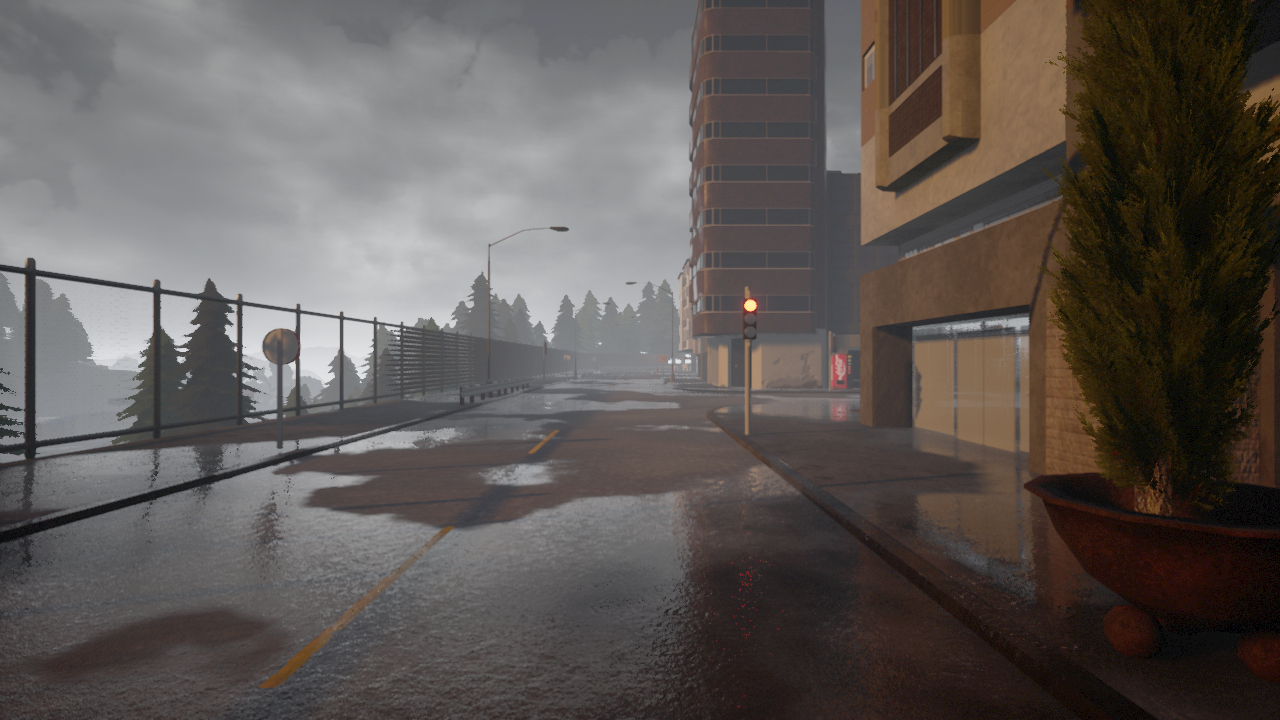red: (742, 297, 759, 340)
